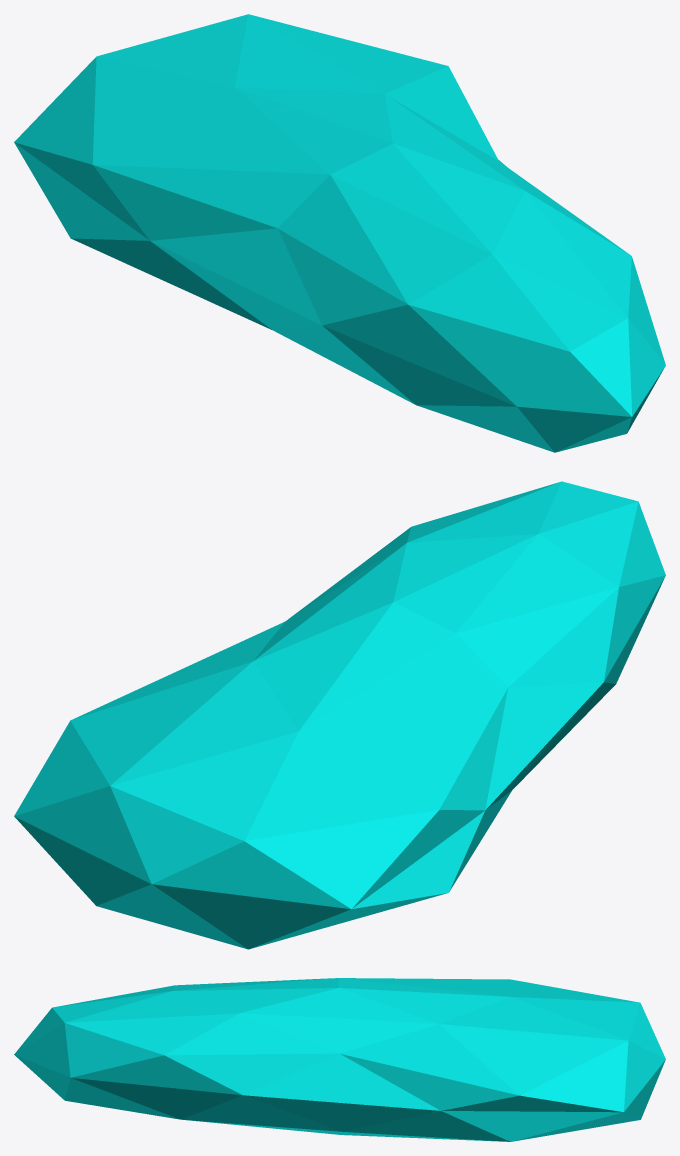
The model's file is Enemy Missile Ship.fbx.
The picture shows the model from 3 angles, top to bottom: view 1: azimuth 30°, elevation 25°; view 2: azimuth 150°, elevation 25°; view 3: azimuth 270°, elevation 25°; orthographic projection. The views are drawn at different scales.
Parts seen in each view (by area): view 1: Shield.004; view 2: Shield.004; view 3: Shield.004.
Boxes of the visible parts, bbox=[...] form: Shield.004: bbox=[14, 14, 665, 452]; Shield.004: bbox=[14, 481, 665, 949]; Shield.004: bbox=[14, 978, 665, 1141].
Size of what is drawn, in the model's own units: 6.46 by 14.22 by 3.21.
